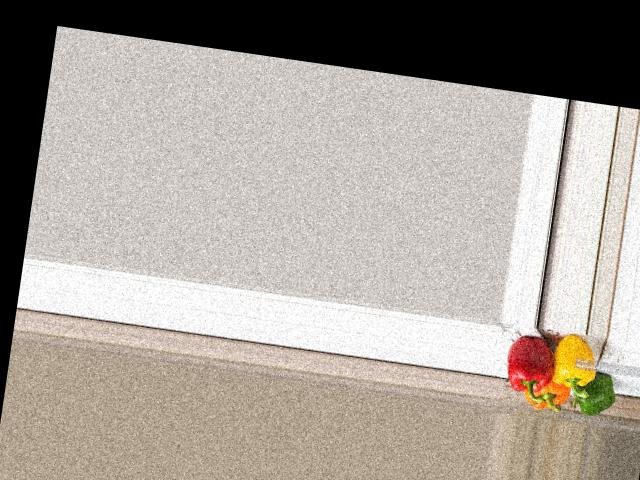bell_pepper: (522, 375, 573, 414)
